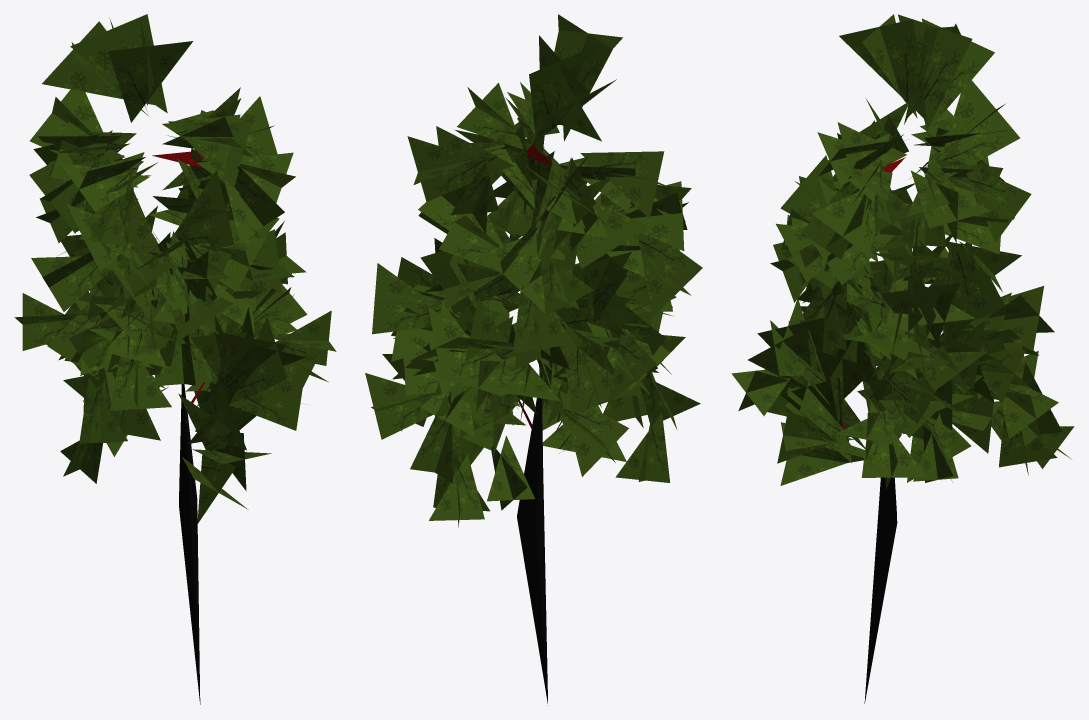
Rendered from birch 5 lod3.FBX.
3 renders of one model, left to right at view 1: azimuth 30°, elevation 25°; view 2: azimuth 150°, elevation 25°; view 3: azimuth 270°, elevation 25°, orthographic. The views are drawn at different scales.
Visible parts, largest first — view 1: birch5_LOD3; view 2: birch5_LOD3; view 3: birch5_LOD3.
Boxes of the visible parts, left/top/right/bottom form: birch5_LOD3: left=14, top=14, right=336, bottom=704; birch5_LOD3: left=365, top=14, right=702, bottom=705; birch5_LOD3: left=731, top=14, right=1074, bottom=703.
Bounding box in the file's own units: 64070 × 139974 × 65006.
